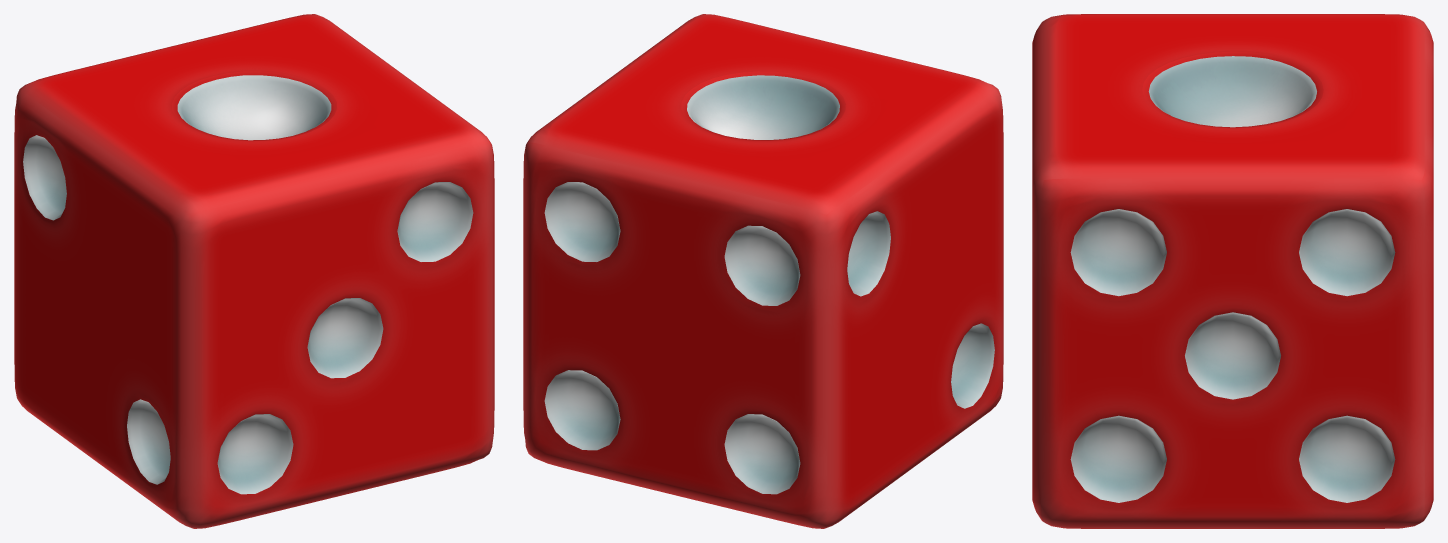
Rendered from BgMD_DicePin_01_01 (2).fbx.
3 renders of one model, left to right at view 1: azimuth 30°, elevation 25°; view 2: azimuth 150°, elevation 25°; view 3: azimuth 270°, elevation 25°, orthographic. The views are drawn at different scales.
Visible parts, largest first — view 1: DicePin; view 2: DicePin; view 3: DicePin.
Boxes of the visible parts, x1=… form: DicePin: x1=14, y1=14, x2=494, y2=528; DicePin: x1=523, y1=14, x2=1003, y2=528; DicePin: x1=1032, y1=14, x2=1433, y2=528.
Bounding box in the file's own units: 100 × 100 × 100.
